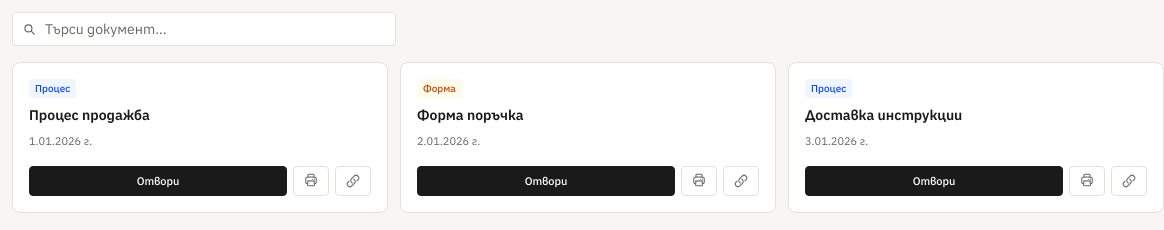
DocumentLibrary › filters by search query
Type "форма" into the search field at point(204, 29), box [12,12,396,46]
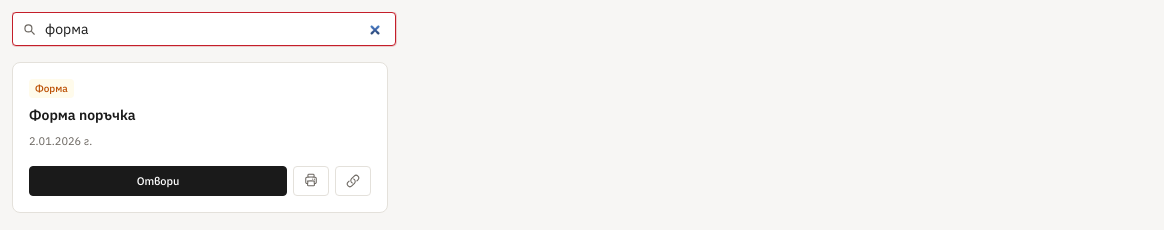
Expected: the heading "Форма поръчка" is shown, [29,106,136,124]
Now the heading "Процес продажба" is gone
